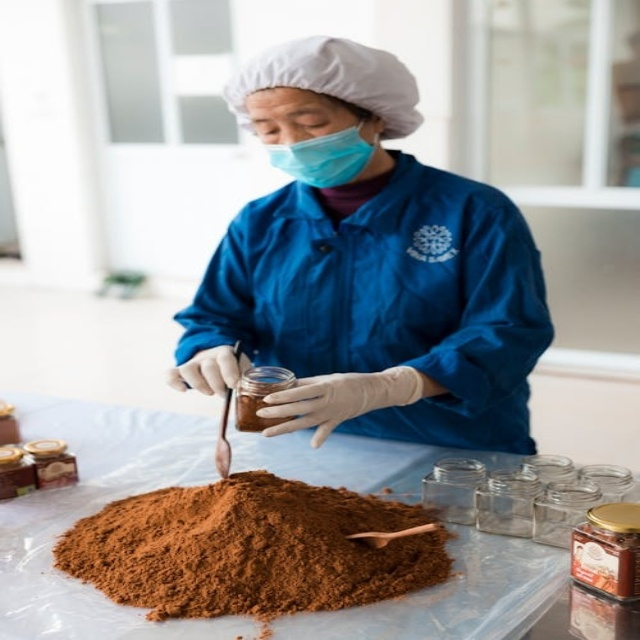Guantes: (253, 365, 427, 449), (166, 345, 251, 399)
Mascara: (261, 116, 377, 187)
Sin_gafas: (251, 105, 335, 138)
